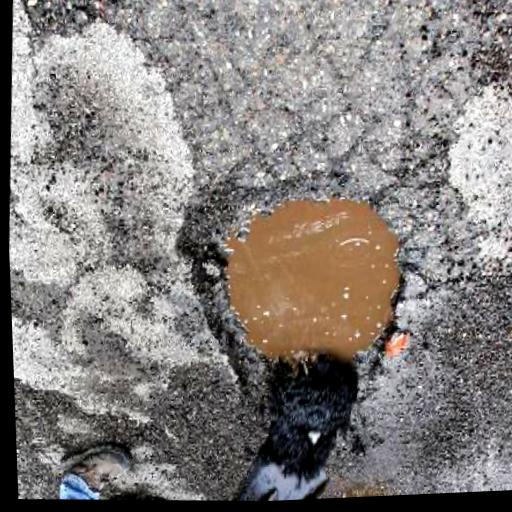pothole: (163, 148, 424, 427)
